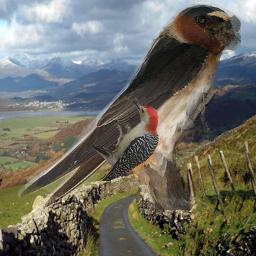Swallow: (18, 4, 241, 210)
Woodpecker: (93, 99, 161, 181)
